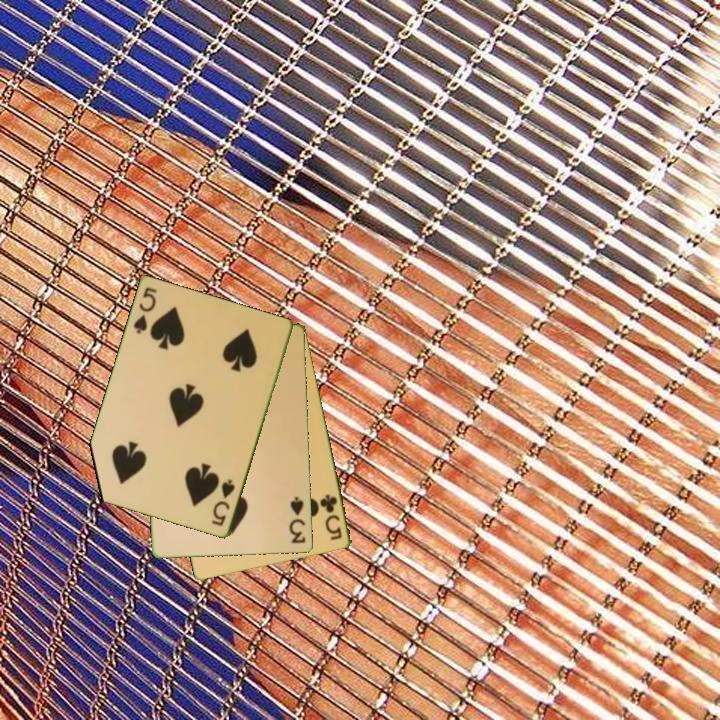3s: (286, 493, 309, 547)
5c: (317, 491, 345, 543)
5s: (208, 476, 238, 529), (130, 284, 160, 337)
